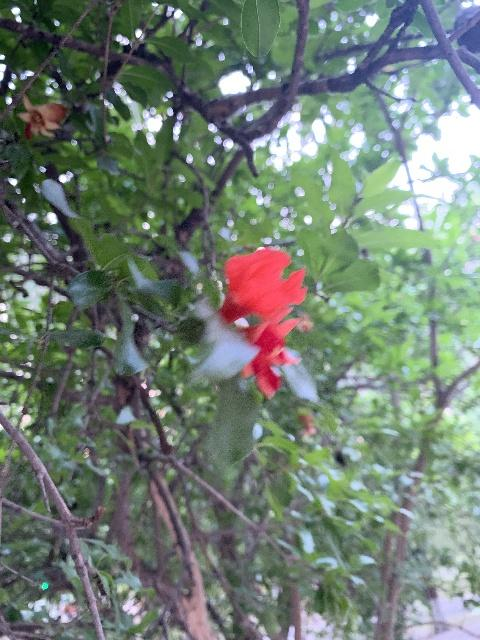early-fruit: (16, 94, 66, 140)
flower: (218, 246, 309, 326), (236, 309, 302, 399)
